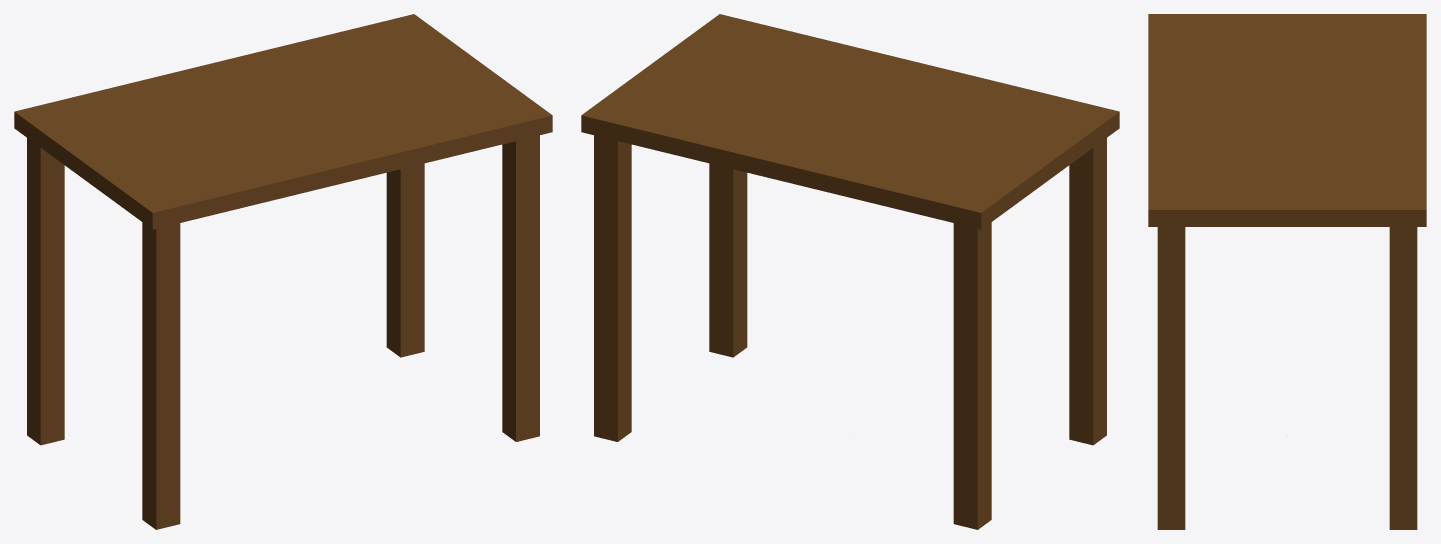
Rendered from furniture-table.glb.
The picture shows the model from 3 angles, left to right: view 1: azimuth 30°, elevation 25°; view 2: azimuth 150°, elevation 25°; view 3: azimuth 270°, elevation 25°; orthographic projection.
Visible parts, largest first — view 1: table_top, table_leg_fr, table_leg_fl, table_leg_br, table_leg_bl; view 2: table_top, table_leg_br, table_leg_bl, table_leg_fr, table_leg_fl; view 3: table_top, table_leg_fl, table_leg_bl.
Boxes of the visible parts, left/top/right/bottom form: table_top: left=14, top=14, right=552, bottom=229; table_leg_fr: left=142, top=222, right=180, bottom=529; table_leg_fl: left=502, top=135, right=539, bottom=441; table_leg_br: left=27, top=138, right=64, bottom=445; table_leg_bl: left=386, top=163, right=424, bottom=357; table_top: left=581, top=14, right=1119, bottom=229; table_leg_br: left=953, top=222, right=991, bottom=529; table_leg_bl: left=594, top=135, right=631, bottom=441; table_leg_fr: left=1069, top=138, right=1106, bottom=445; table_leg_fl: left=709, top=163, right=747, bottom=357; table_top: left=1148, top=14, right=1426, bottom=226; table_leg_fl: left=1157, top=227, right=1185, bottom=529; table_leg_bl: left=1389, top=227, right=1417, bottom=529.
Bounding box in the file's own units: 1 × 0.7705 × 0.6.
